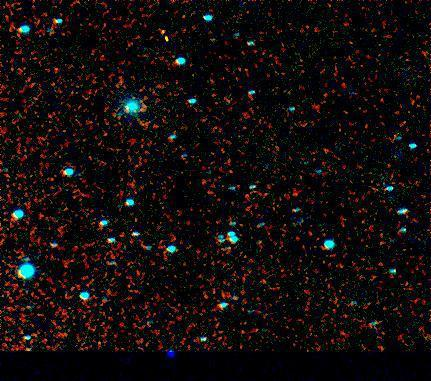star: (153, 17, 183, 47)
